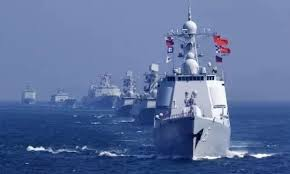tau_muctieu: (164, 10, 236, 163), (138, 61, 167, 127), (88, 71, 127, 113), (116, 68, 142, 120), (15, 81, 44, 110)
